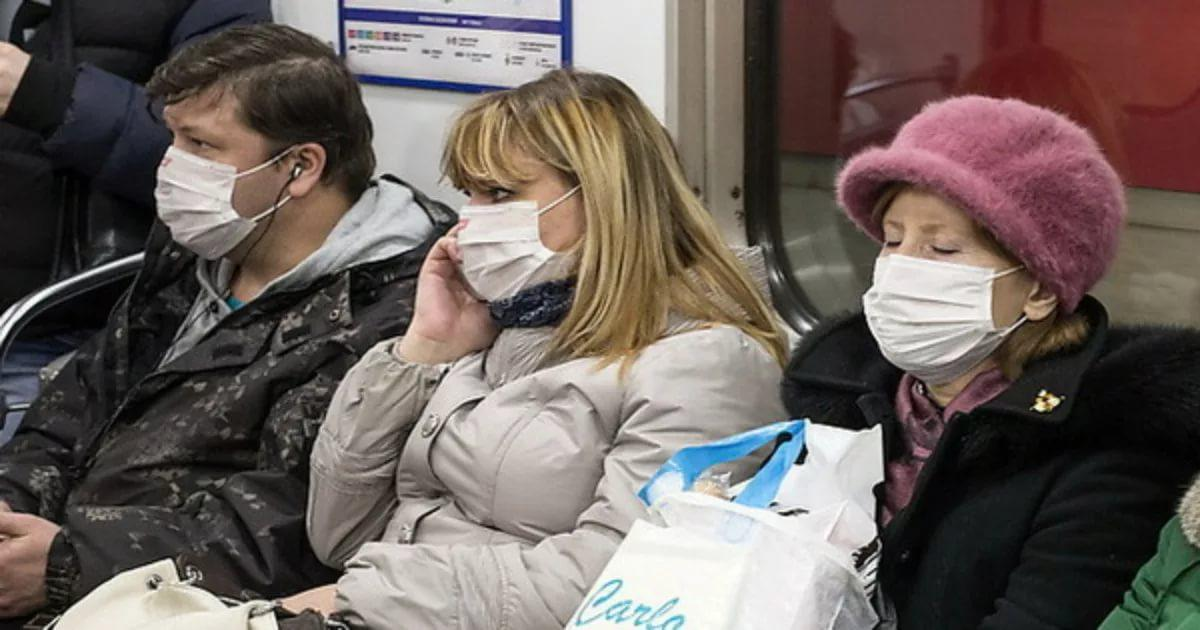mask: (866, 184, 1029, 378), (150, 90, 299, 262), (443, 141, 589, 300)
